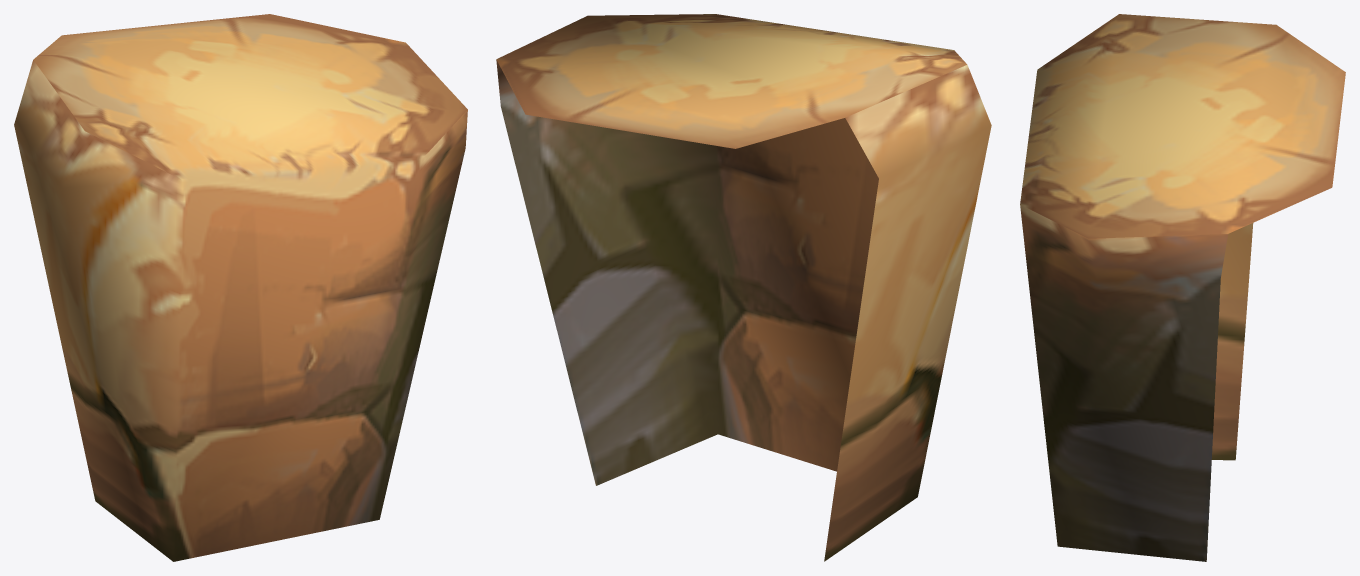
The model's file is Chapter1Scene1Model43.FBX.
3 views of the same model, side by side, from view 1: azimuth 30°, elevation 25°; view 2: azimuth 150°, elevation 25°; view 3: azimuth 270°, elevation 25° (orthographic). The views are drawn at different scales.
Visible parts, largest first — view 1: Chapter1Scene1Model43; view 2: Chapter1Scene1Model43; view 3: Chapter1Scene1Model43.
Boxes of the visible parts, box(x1,y1,x2,y2) form: Chapter1Scene1Model43: box(14, 14, 467, 561); Chapter1Scene1Model43: box(496, 14, 991, 561); Chapter1Scene1Model43: box(1020, 14, 1345, 561).
Bounding box in the file's own units: 167 × 124 × 174.
